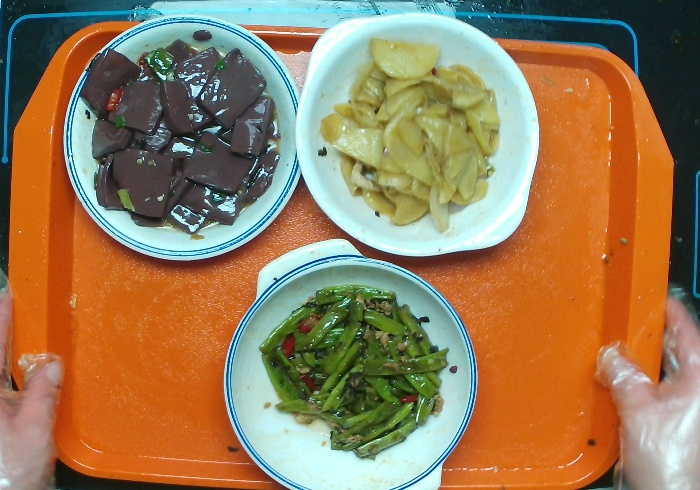HZYJPL-Dai_Er_Bai_Yuan_Wan: (292, 9, 541, 261)
HZYJPL-Lan_Bian_Dai_Er_Wan: (222, 236, 481, 490)
HZYJPL-Lan_Bian_Yuan_Die: (61, 12, 307, 265)
